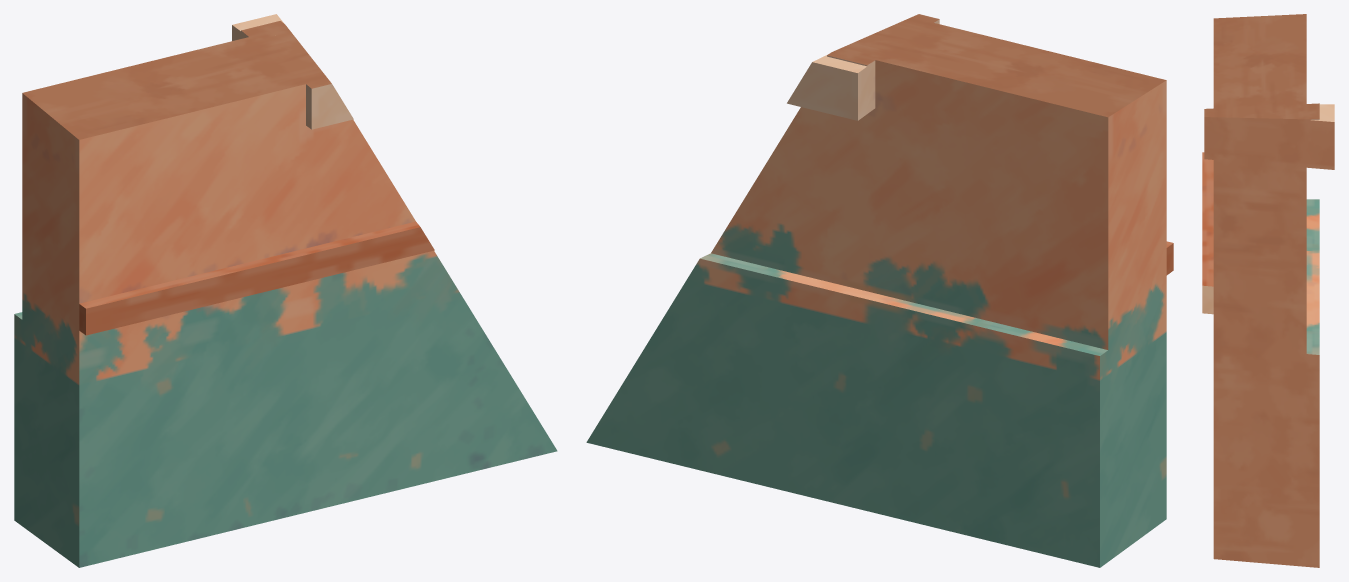
The model's file is wall2_window_s02.fbx.
3 renders of one model, left to right at view 1: azimuth 30°, elevation 25°; view 2: azimuth 150°, elevation 25°; view 3: azimuth 270°, elevation 25°, orthographic. The views are drawn at different scales.
Visible parts, largest first — view 1: wall2_window_s02; view 2: wall2_window_s02; view 3: wall2_window_s02.
Boxes of the visible parts, <box> form: wall2_window_s02: <box>14,14,557,567</box>; wall2_window_s02: <box>586,14,1173,567</box>; wall2_window_s02: <box>1202,14,1334,567</box>.
Bounding box in the file's own units: 5.08 × 4.21 × 1.42.
